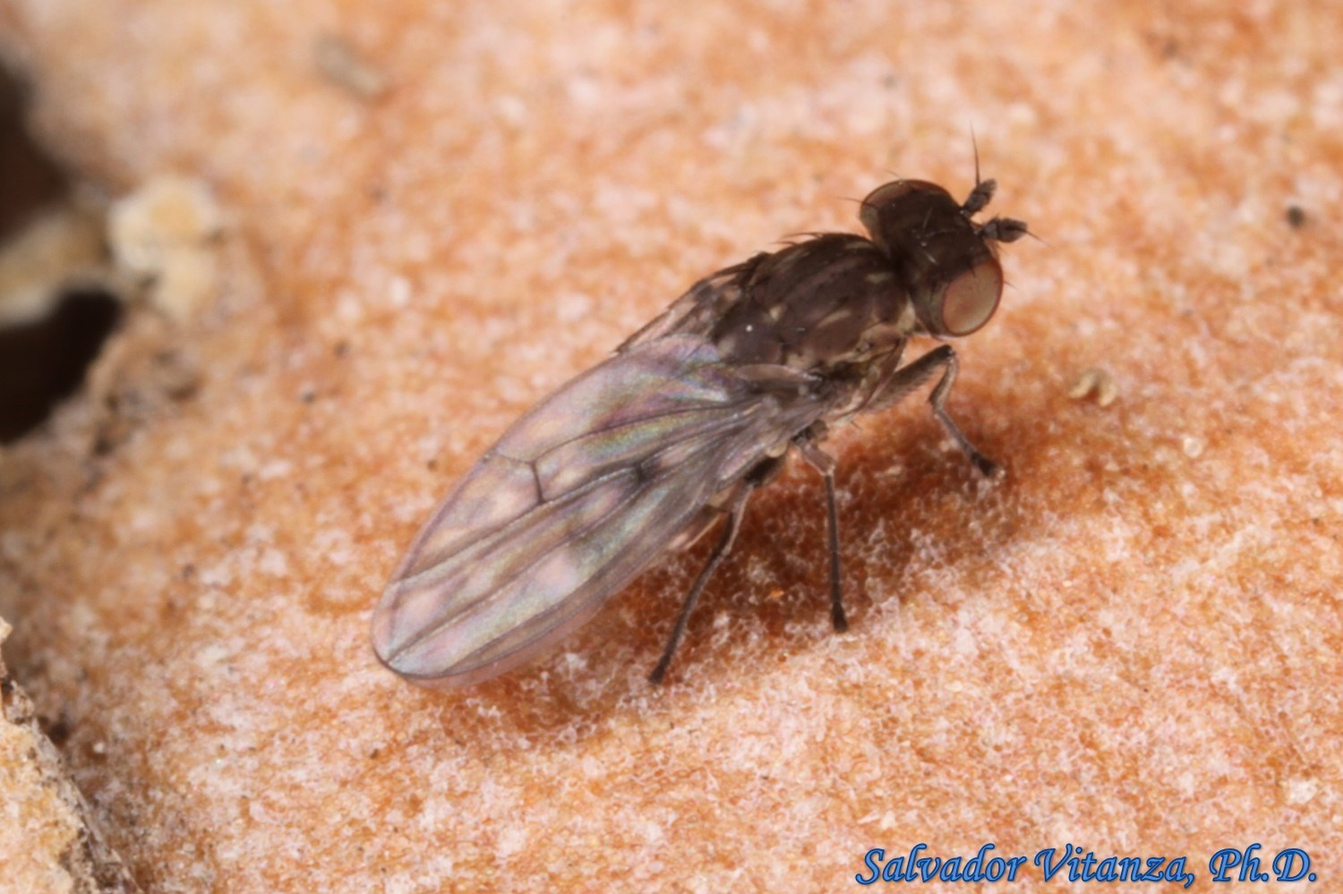Ephydridae: (365, 127, 1038, 705)
